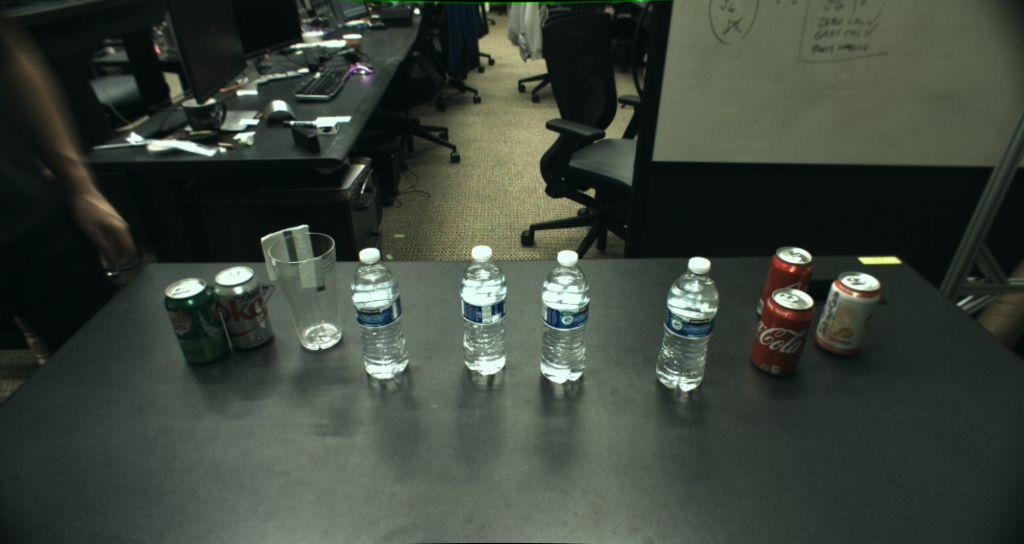can_coke: (750, 287, 813, 378)
can_diet_coke: (214, 267, 273, 351)
can_ginger_ale: (165, 277, 230, 365)
can_talking_rain_peach_nectarine: (815, 271, 879, 356)
water_bottle: (656, 257, 719, 392), (351, 247, 409, 380), (540, 250, 590, 384), (459, 245, 506, 376)
